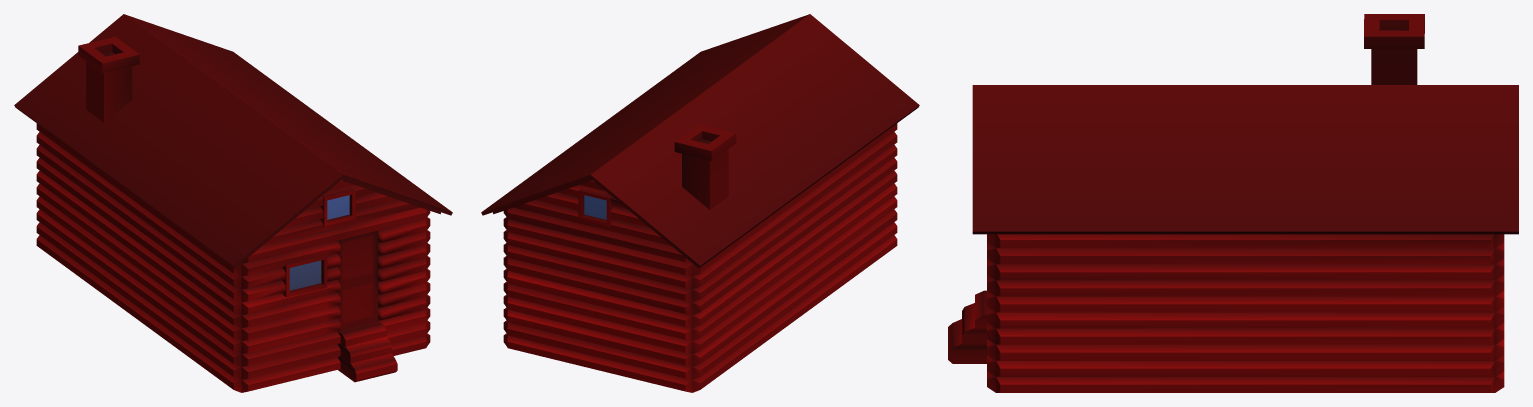
Rendered from buildings-residential-logcabin_v1.fbx.
The picture shows the model from 3 angles, left to right: view 1: azimuth 30°, elevation 25°; view 2: azimuth 150°, elevation 25°; view 3: azimuth 270°, elevation 25°; orthographic projection. The views are drawn at different scales.
Parts seen in each view (by area): view 1: LogCabin_v1_base, LogCabin_v1_windowRefl; view 2: LogCabin_v1_base, LogCabin_v1_windowRefl; view 3: LogCabin_v1_base.
Boxes of the visible parts, <box> form: LogCabin_v1_base: <box>14,14,452,392</box>; LogCabin_v1_windowRefl: <box>289,195,349,290</box>; LogCabin_v1_base: <box>481,14,919,392</box>; LogCabin_v1_windowRefl: <box>584,195,606,219</box>; LogCabin_v1_base: <box>948,14,1518,392</box>.
Size of the model in its own units: 9.71 by 9.27 by 17.59.
